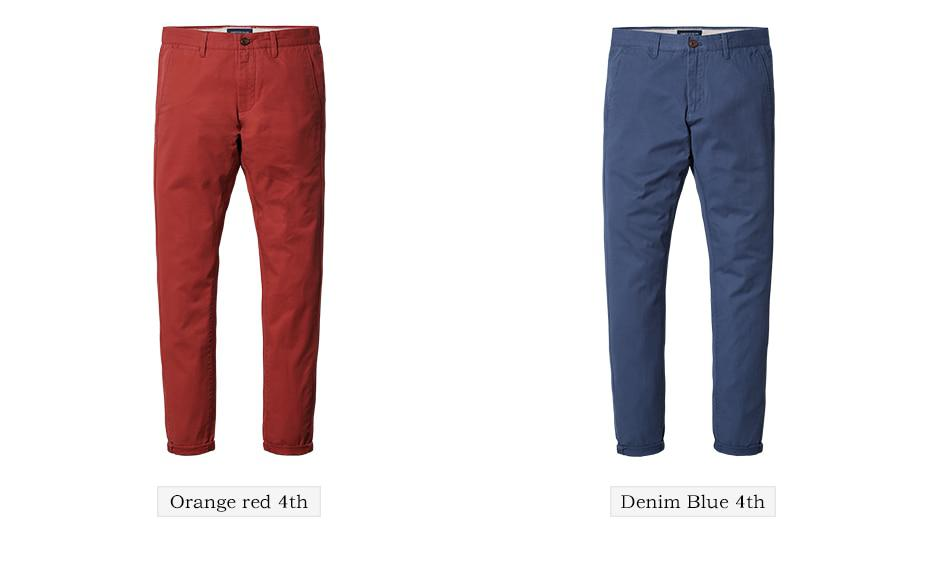pants: (601, 27, 774, 466), (153, 25, 322, 459)
